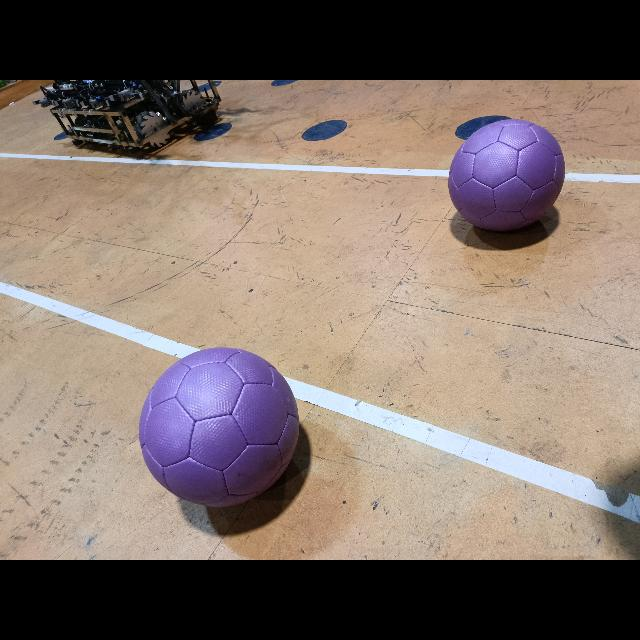P: (139, 347, 299, 507), (449, 120, 565, 230)
